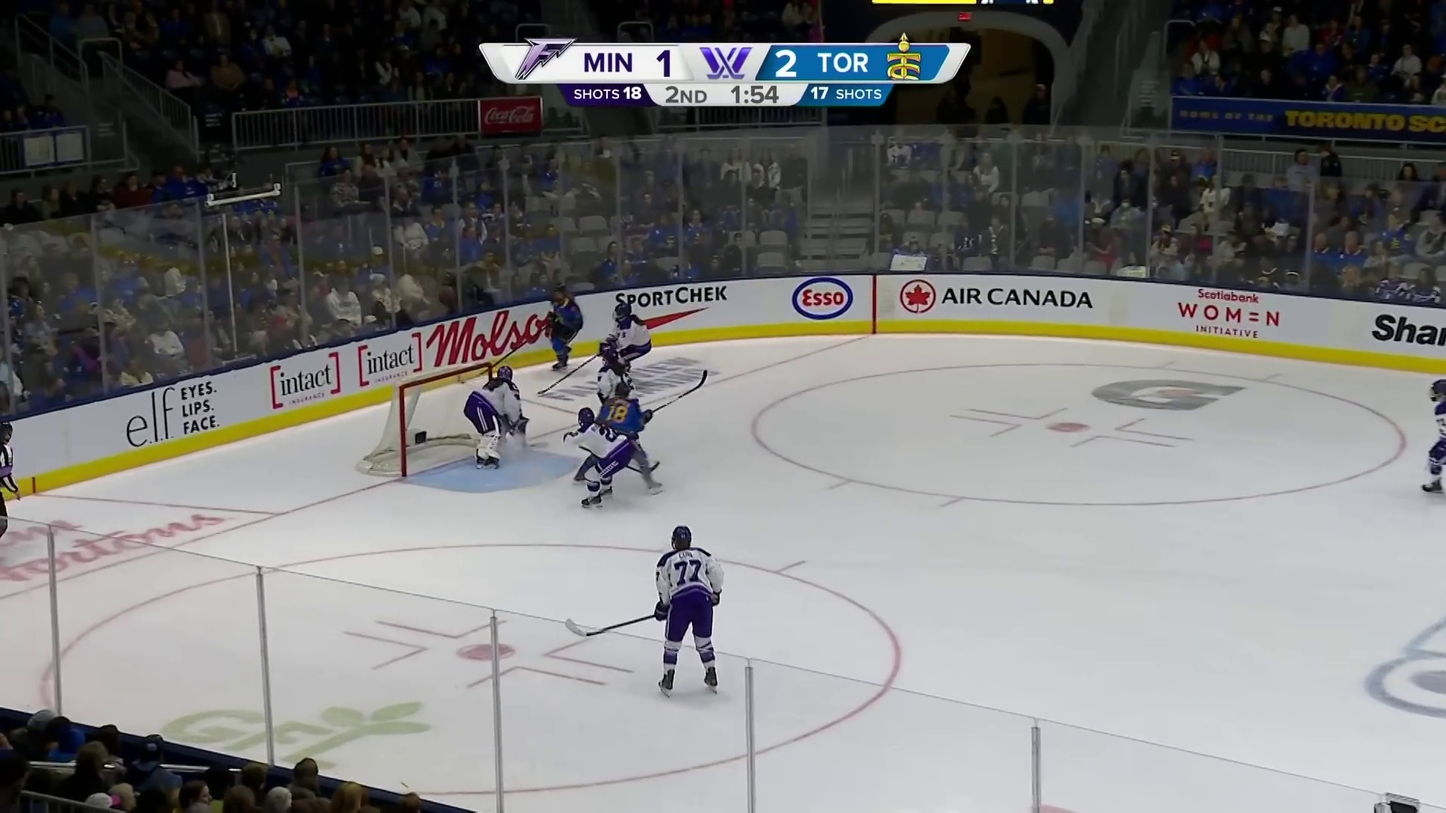goaltender: (463, 364, 531, 468)
player: (653, 522, 727, 699), (563, 405, 636, 508), (544, 283, 585, 371), (597, 383, 653, 435), (611, 303, 652, 368), (597, 346, 637, 401)
